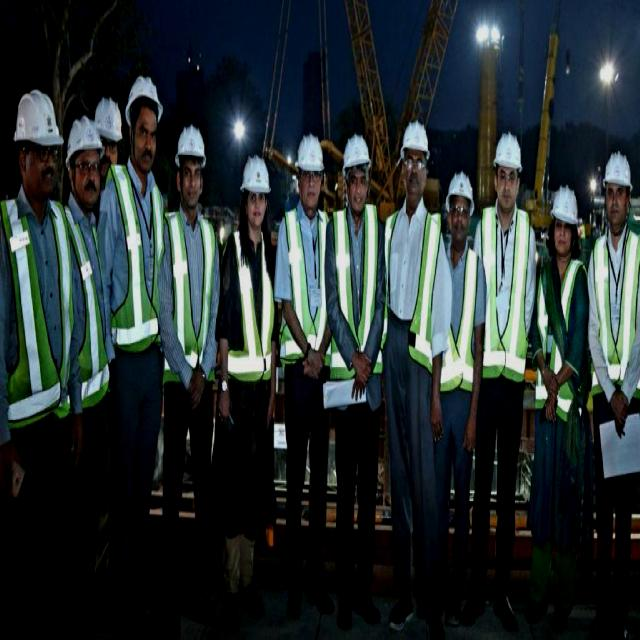face_nomask: (30, 139, 59, 199), (602, 180, 630, 239), (131, 120, 160, 172), (402, 148, 426, 207), (181, 162, 205, 213), (300, 164, 322, 216), (78, 156, 100, 202), (552, 216, 576, 257), (450, 196, 470, 244), (495, 170, 517, 210), (348, 170, 366, 212), (245, 190, 267, 222)
hand_noglove: (185, 362, 206, 414), (609, 388, 629, 440), (68, 425, 84, 469), (302, 351, 322, 386), (349, 368, 372, 398), (430, 400, 446, 437), (544, 364, 560, 399), (463, 418, 478, 454), (263, 391, 276, 432), (356, 352, 370, 387), (217, 388, 230, 423), (544, 396, 558, 427)
head_helmet: (15, 90, 65, 146), (66, 116, 101, 158), (93, 100, 124, 140), (605, 151, 634, 192), (128, 76, 160, 112), (296, 139, 324, 175), (243, 156, 271, 192), (401, 121, 430, 155), (178, 126, 205, 162), (447, 170, 473, 206), (552, 190, 578, 226), (343, 135, 373, 166), (497, 135, 522, 171)
person: (0, 85, 75, 640), (110, 81, 167, 640), (274, 137, 334, 626), (384, 122, 442, 621), (330, 131, 389, 620), (60, 111, 112, 640), (164, 128, 220, 614), (225, 151, 281, 624), (481, 133, 530, 632), (590, 146, 639, 616), (541, 182, 590, 626), (439, 169, 483, 626)
vest: (0, 192, 70, 424), (114, 173, 163, 344), (168, 210, 215, 372), (70, 199, 107, 404), (592, 232, 639, 393), (227, 226, 277, 376), (483, 210, 528, 372), (385, 210, 436, 352), (331, 207, 381, 350), (539, 255, 583, 410), (284, 213, 327, 344), (438, 245, 476, 391)
